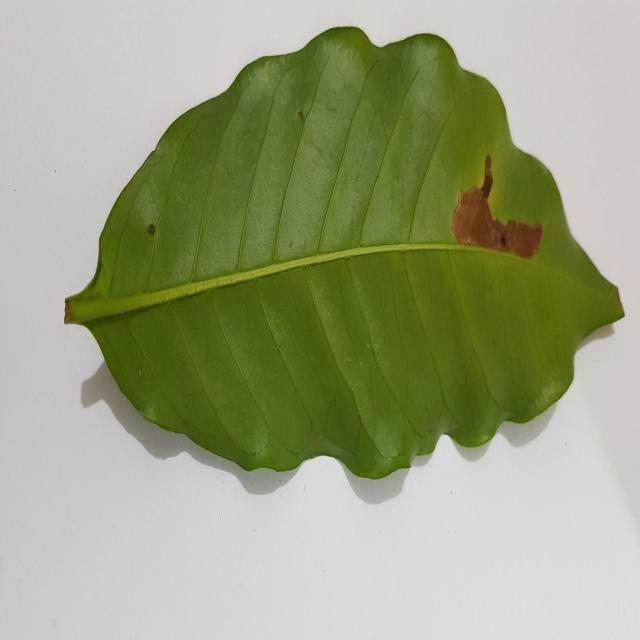miner: (452, 155, 542, 258)
